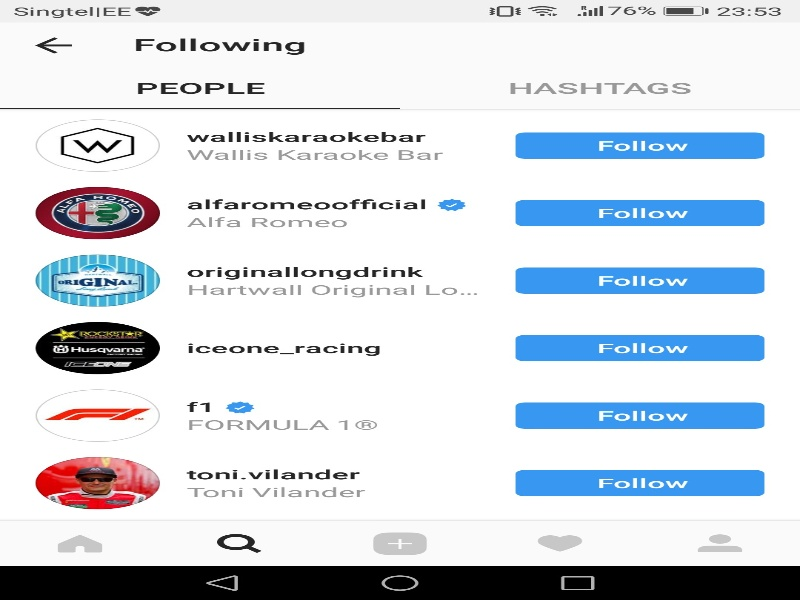follow: (510, 122, 774, 166), (510, 397, 769, 438), (512, 327, 772, 365), (513, 467, 767, 500), (511, 198, 769, 229), (513, 266, 769, 296)
